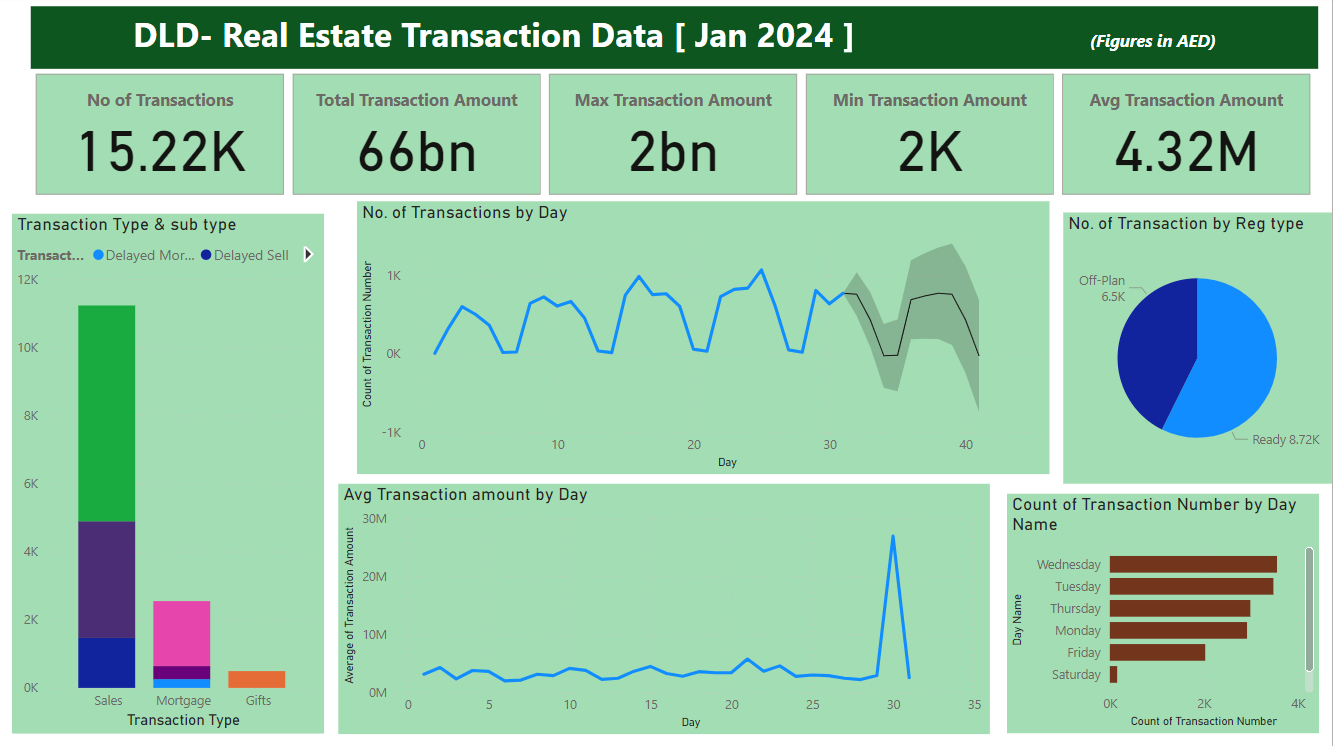

The page's visual inventory and layout, read from the dashboard file:
{"tool":"powerbi","page":{"name":"Page 1","canvas":[1280,720],"ordinal":0},"visuals":[{"type":"cardVisual","fields":{"Data":["CountNonNull(dld_data transactions_24.Transaction Number)","dld_data transactions_24.Total Transaction Amount","Max(dld_data transactions_24.Amount)","Min(dld_data transactions_24.Amount)1","Avg(dld_data transactions_24.Amount)2"]},"box":[32,71.2,1235.2,126.4],"z":0},{"type":"textbox","box":[32.7,11.4,1234.5,59.7],"z":1000},{"type":"columnChart","title":"Transaction Type & sub type","fields":{"Y":["CountNonNull(dld_data transactions_24.Transaction Number)"],"Category":["dld_data transactions_24.Transaction Type"],"Series":["dld_data transactions_24.Transaction sub type"]},"box":[14.2,210,299,498.3],"z":2000},{"type":"lineChart","title":"No. of Transactions by Day","fields":{"Y":["CountNonNull(dld_data transactions_24.Transaction Number)"],"Category":["dld_data transactions_24.Transaction Date.Variation.Date Hierarchy.Day"]},"box":[345.3,197.6,663.9,261.6],"z":3000},{"type":"clusteredBarChart","fields":{"Category":["dld_data transactions_24.Day Name"],"Y":["CountNonNull(dld_data transactions_24.Transaction Number)"]},"box":[968.2,478.8,299,229.6],"z":4000},{"type":"pieChart","title":"No. of Transaction by Reg type","fields":{"Y":["CountNonNull(dld_data transactions_24.Transaction Number)"],"Category":["dld_data transactions_24.Registration type"]},"box":[1022.6,209.1,257.4,260.3],"z":5000},{"type":"lineChart","title":"Avg Transaction amount by Day","fields":{"Category":["dld_data transactions_24.Transaction Date.Variation.Date Hierarchy.Day"],"Y":["Avg(dld_data transactions_24.Transaction Amount)"]},"box":[327.5,468.1,624.7,240.3],"z":6000}]}

Visuals, with their boxes in screenshot pixels (x1, y1, x2, y2), scaled from the page's 1280x720 canvas onto the 1337x746 screenshot:
cardVisual - CountNonNull(dld_data transactions_24.Transaction Number) x dld_data transactions_24.Total Transaction Amount: select_region(33, 74, 1324, 205)
textbox: select_region(34, 12, 1324, 74)
"Transaction Type & sub type" columnChart: select_region(15, 218, 327, 734)
"No. of Transactions by Day" lineChart: select_region(361, 205, 1054, 476)
clusteredBarChart - dld_data transactions_24.Day Name x CountNonNull(dld_data transactions_24.Transaction Number): select_region(1011, 496, 1324, 734)
"No. of Transaction by Reg type" pieChart: select_region(1068, 217, 1336, 486)
"Avg Transaction amount by Day" lineChart: select_region(342, 485, 995, 734)
